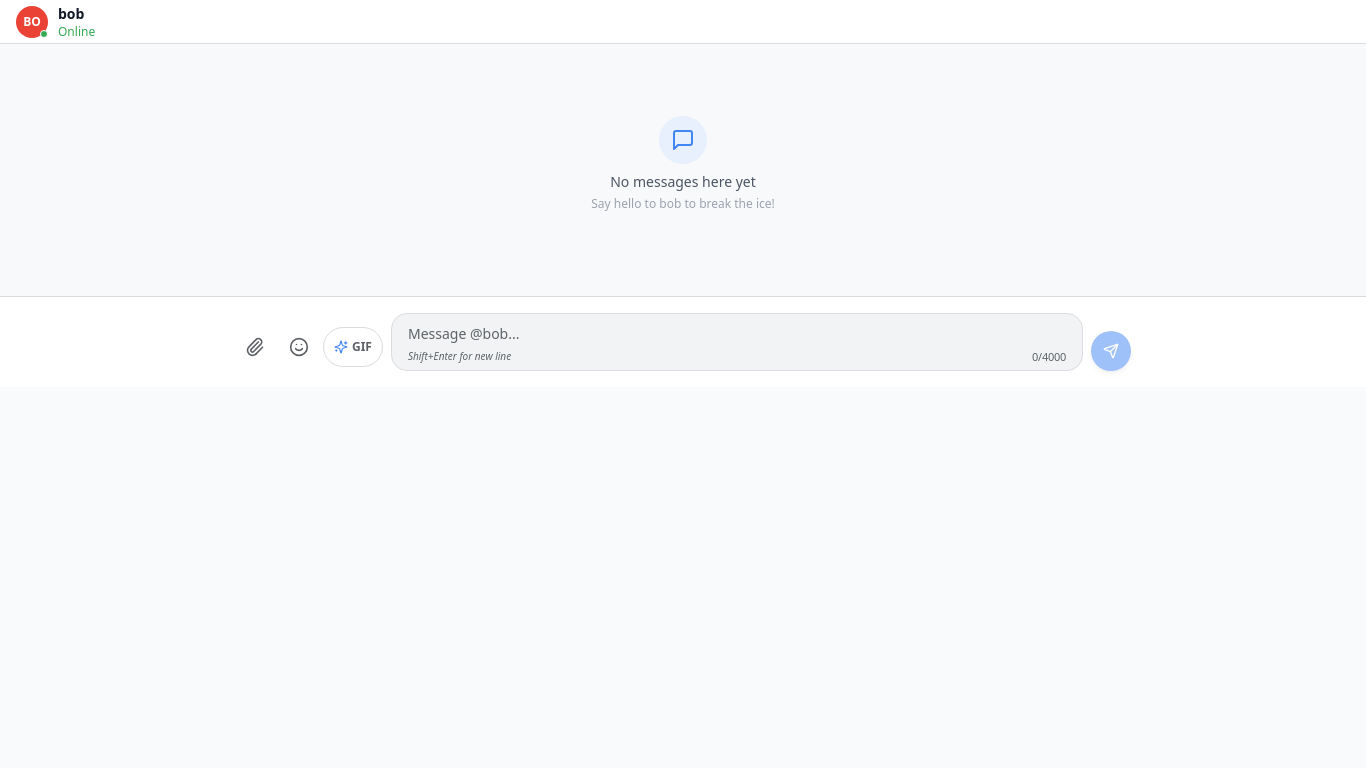
Test: Rich Media: Emoji Picker & GIF Search Integration › Emoji Picker Popover Component › toggles Emoji Picker in Direct ChatArea and inserts emoji at textarea cursor
# Click to open emoji picker
Click the button named "choose emoji". click: x=299, y=347
box: [279, 327, 319, 367]
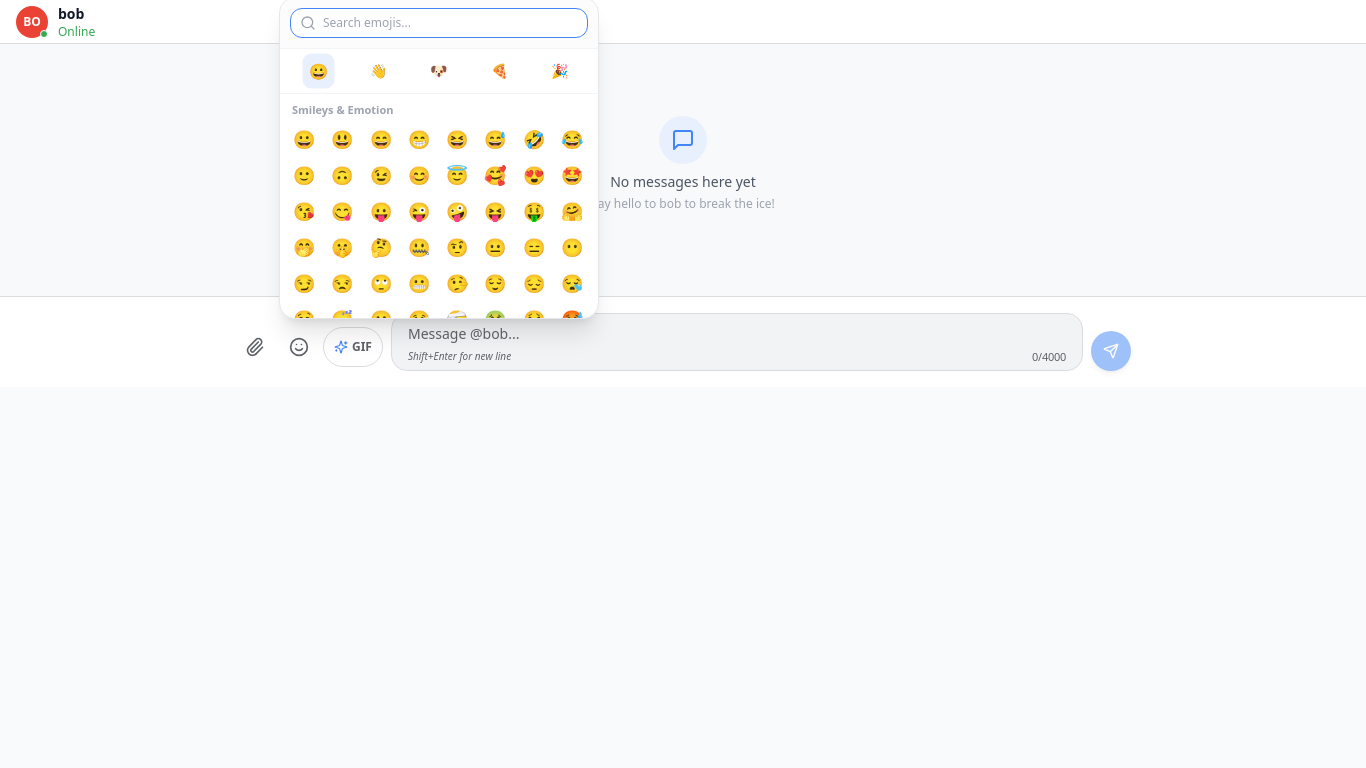
Check: the dialog named "emoji picker" is shown, box [279, 0, 599, 319]
# Type initial text into message input
Type "Hello " into the text box with placeholder "Message @bob...". click: x=737, y=334
box: [408, 324, 1066, 344]
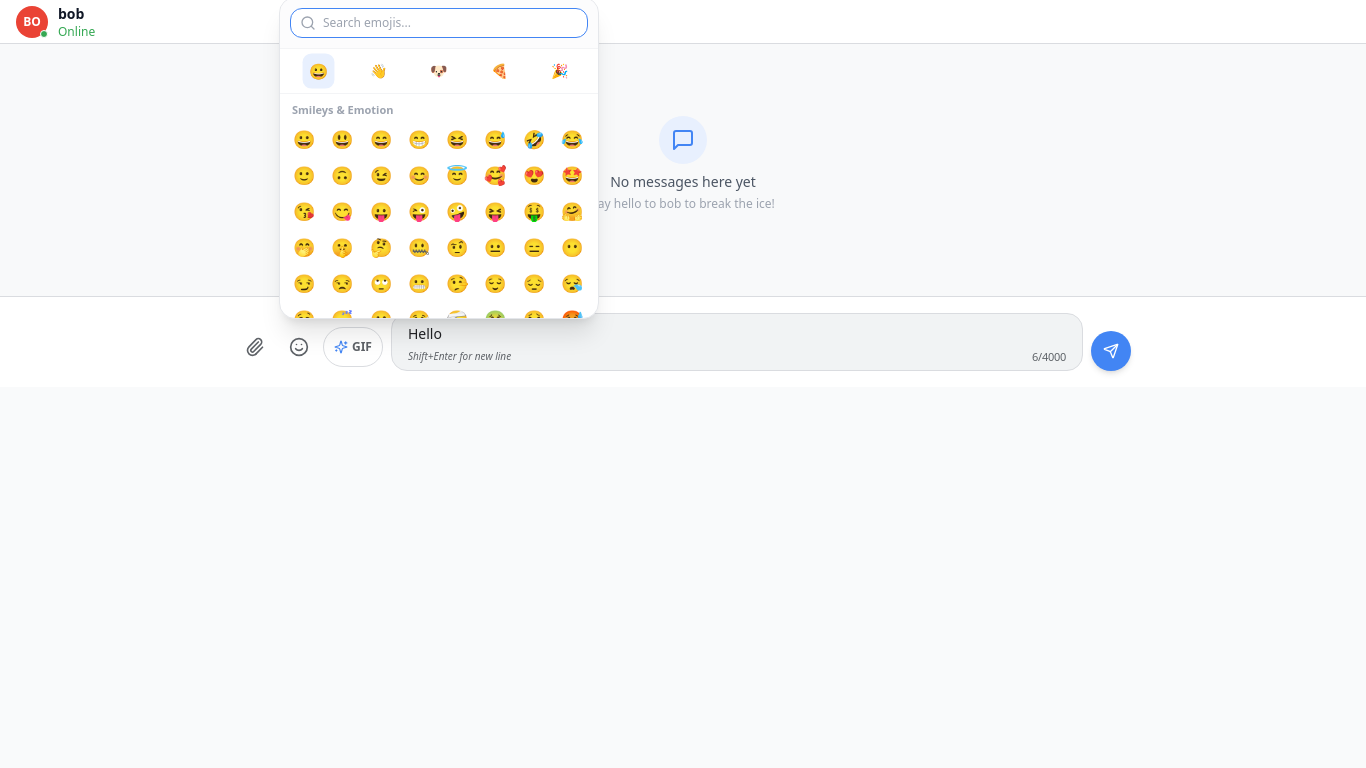
Click the button named "grinning face". click: x=304, y=138
box: [288, 122, 320, 154]
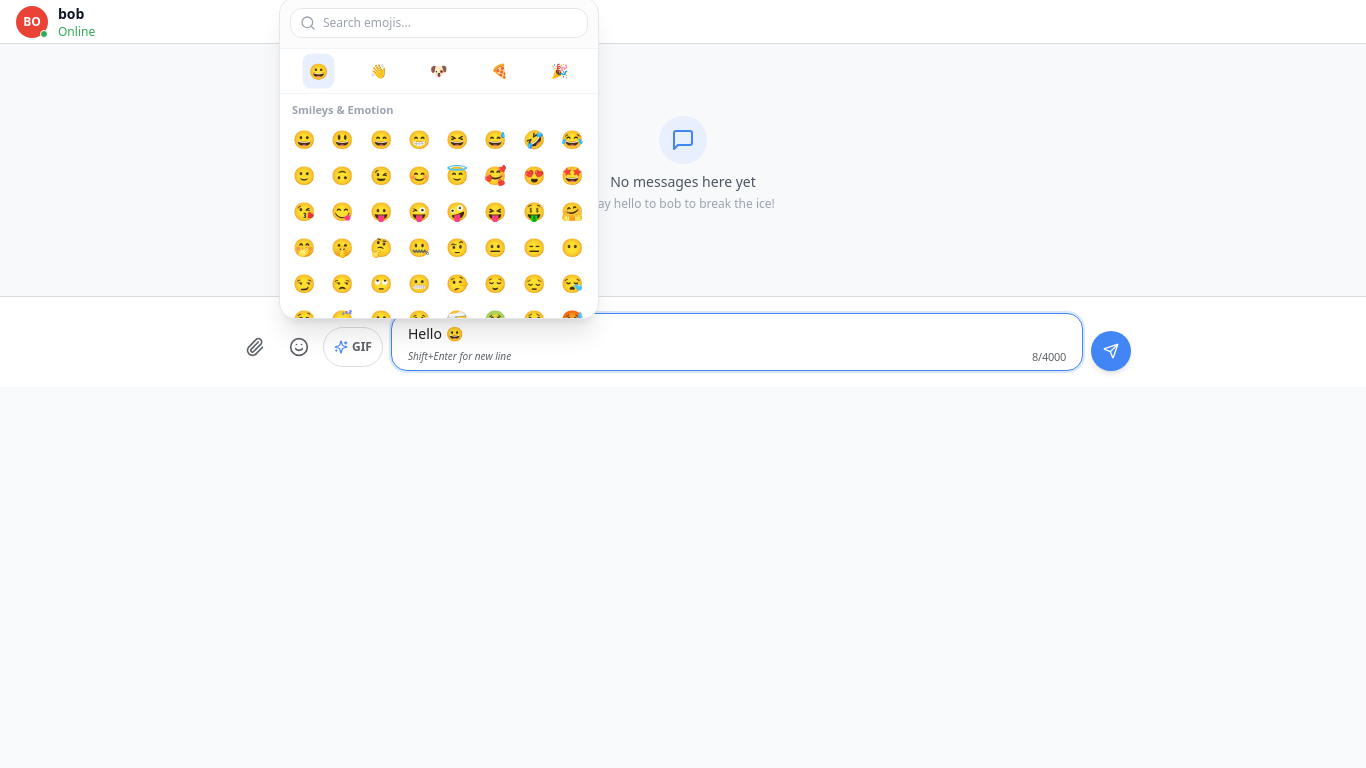
Check: the text box with placeholder "Message @bob..." holds "Hello 😀", box [408, 324, 1066, 344]
